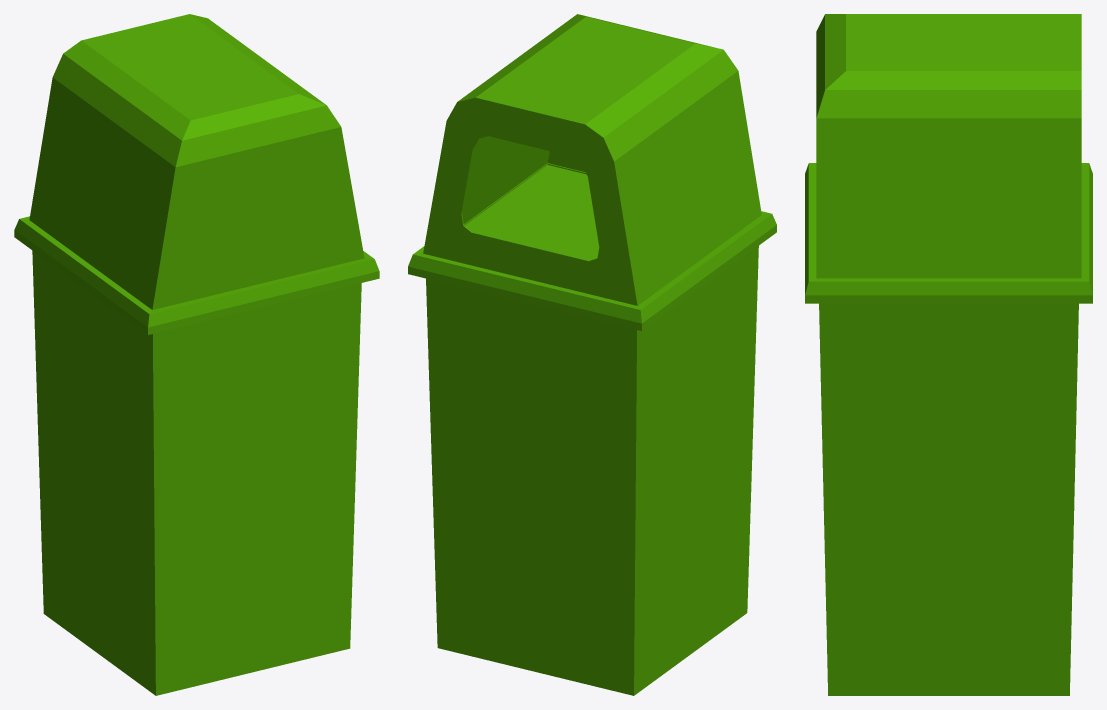
File: tacho.fbx
3 views of the same model, side by side, from view 1: azimuth 30°, elevation 25°; view 2: azimuth 150°, elevation 25°; view 3: azimuth 270°, elevation 25° (orthographic). The views are drawn at different scales.
Visible parts, largest first — view 1: Cube, Cube.001; view 2: Cube, Cube.001; view 3: Cube, Cube.001.
Boxes of the visible parts, x1,y1,x2,y2 form: Cube: [14, 216, 379, 695]; Cube.001: [29, 14, 364, 309]; Cube: [408, 163, 776, 695]; Cube.001: [423, 14, 761, 305]; Cube: [805, 163, 1092, 695]; Cube.001: [816, 14, 1081, 278].
Size of the model in its own units: 57.35 by 132 by 57.35.
